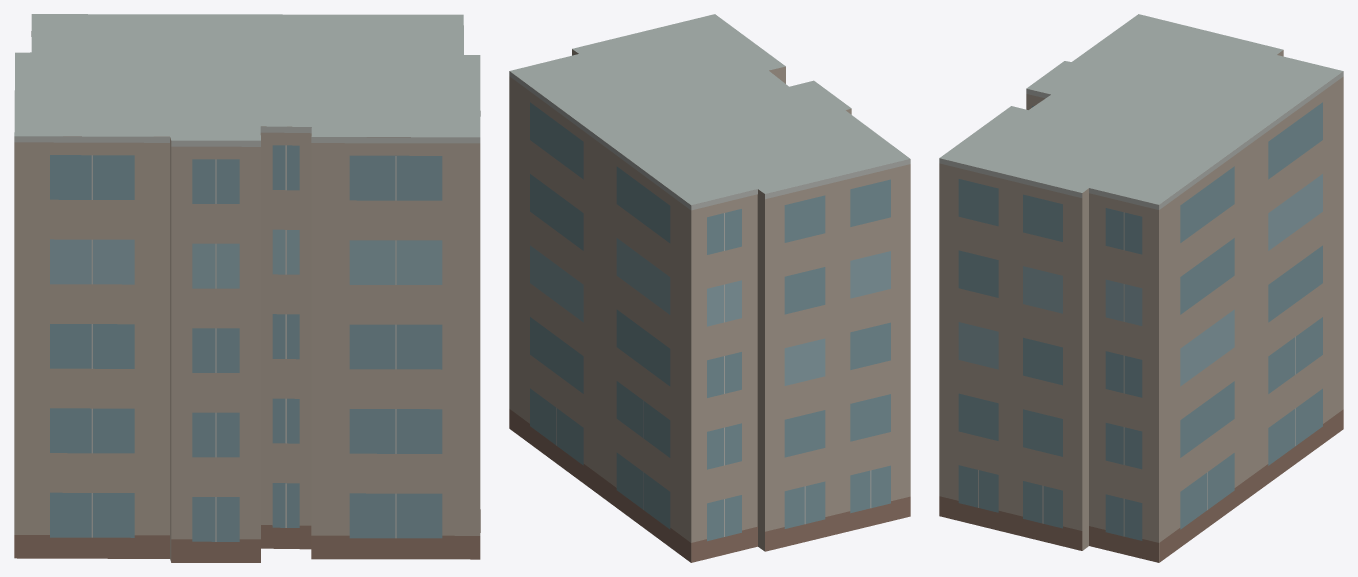
File: survey-upis-32930487.glb
The picture shows the model from 3 angles, left to right: view 1: azimuth 30°, elevation 25°; view 2: azimuth 150°, elevation 25°; view 3: azimuth 270°, elevation 25°; orthographic projection. The views are drawn at different scales.
Parts seen in each view (by area): view 1: survey-upis-32930487.tmp; view 2: survey-upis-32930487.tmp; view 3: survey-upis-32930487.tmp.
Boxes of the visible parts, <box> form: survey-upis-32930487.tmp: <box>14,14,480,562</box>; survey-upis-32930487.tmp: <box>509,14,910,562</box>; survey-upis-32930487.tmp: <box>939,14,1343,562</box>.
Bounding box in the file's own units: 19.21 × 16.79 × 17.2.
